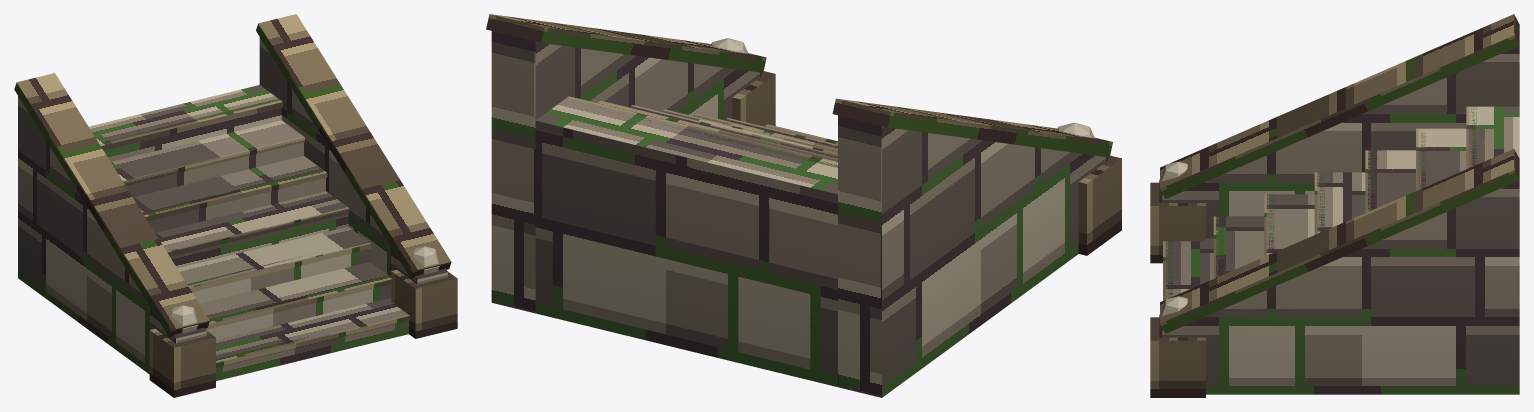
Rendered from scene_stair_gallery.glb.
3 renders of one model, left to right at view 1: azimuth 30°, elevation 25°; view 2: azimuth 150°, elevation 25°; view 3: azimuth 270°, elevation 25°, orthographic. The views are drawn at different scales.
Parts seen in each view (by area): view 1: scene_stair_gallery; view 2: scene_stair_gallery; view 3: scene_stair_gallery.
Part boxes in pixels (x1=…): scene_stair_gallery: x1=14, y1=14, x2=457, y2=397; scene_stair_gallery: x1=486, y1=14, x2=1121, y2=397; scene_stair_gallery: x1=1150, y1=14, x2=1519, y2=397.
Bounding box in the file's own units: 2.96 × 1.98 × 2.92.
2 materials, 1 textured.
